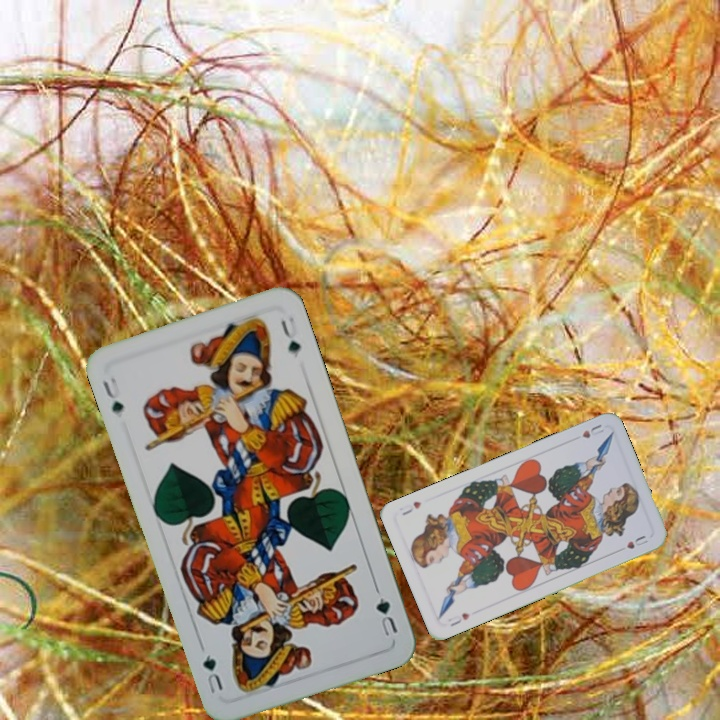GU: (372, 593, 401, 639), (98, 373, 126, 415)
HU: (578, 420, 607, 441), (446, 609, 473, 629)
